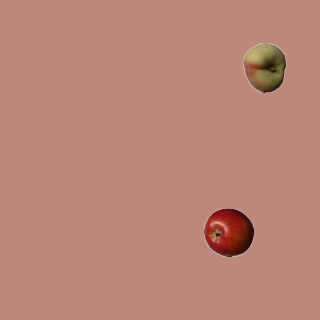Apple Braeburn: (203, 207, 253, 257)
Peach Flat: (239, 42, 289, 92)
